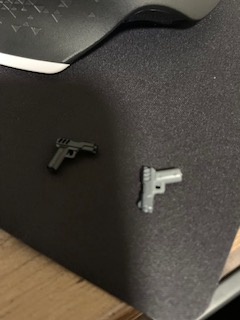pistol: (134, 160, 185, 215), (42, 134, 102, 172)
